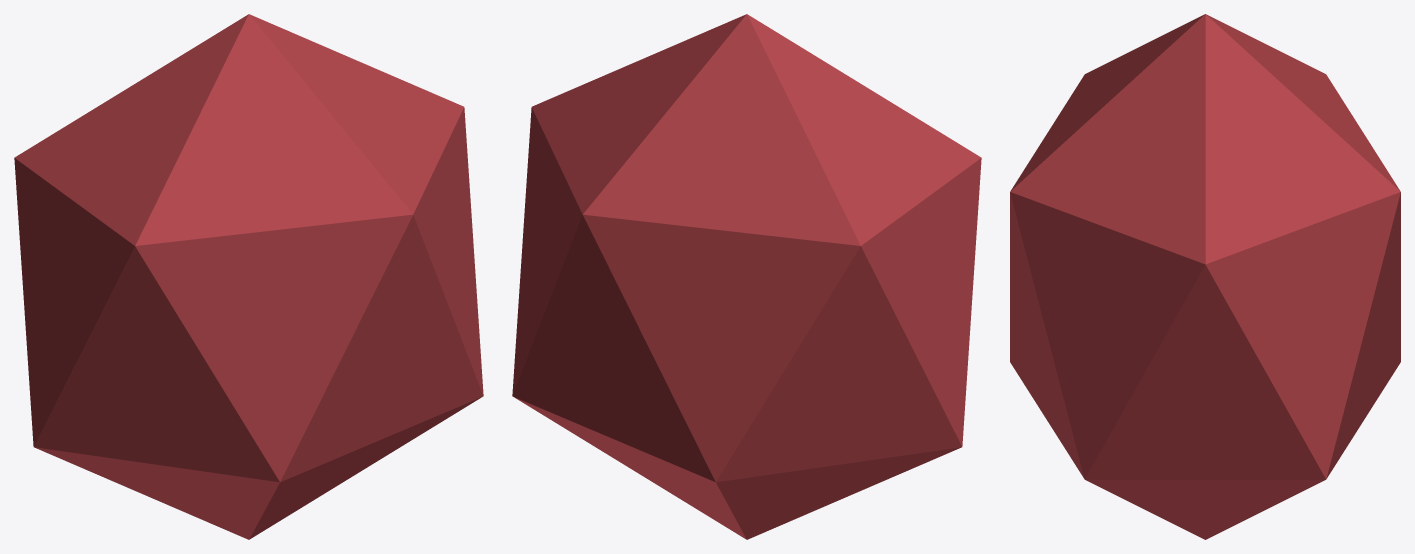
The model's file is wk_muscle_deltoid_v01.glb.
The picture shows the model from 3 angles, left to right: view 1: azimuth 30°, elevation 25°; view 2: azimuth 150°, elevation 25°; view 3: azimuth 270°, elevation 25°; orthographic projection.
Visible parts, largest first — view 1: GEO_MuscleDeltoid; view 2: GEO_MuscleDeltoid; view 3: GEO_MuscleDeltoid.
Part boxes in pixels (x1,y1,x2,y2): GEO_MuscleDeltoid: [14, 14, 483, 539]; GEO_MuscleDeltoid: [512, 14, 981, 539]; GEO_MuscleDeltoid: [1010, 14, 1400, 539].
Size of the model in its own units: 0.2057 by 0.24 by 0.1616.
